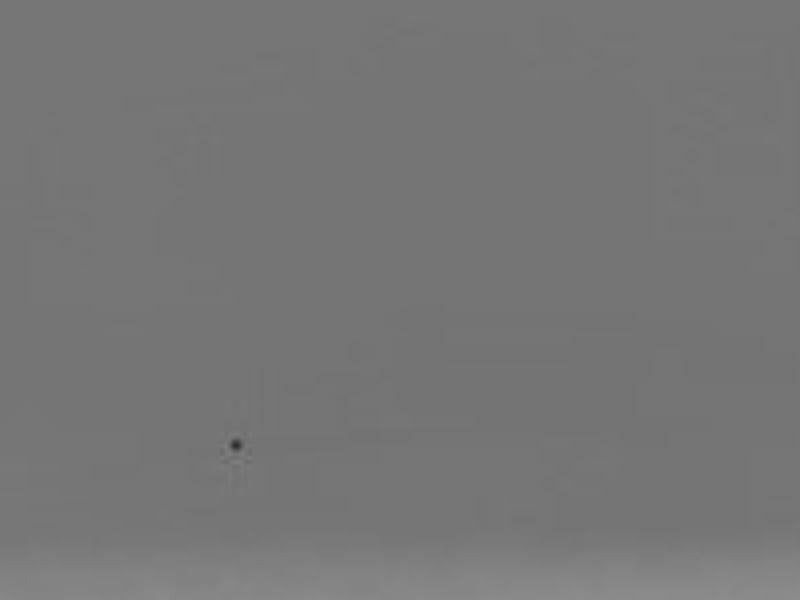defect: (227, 435, 247, 455)
